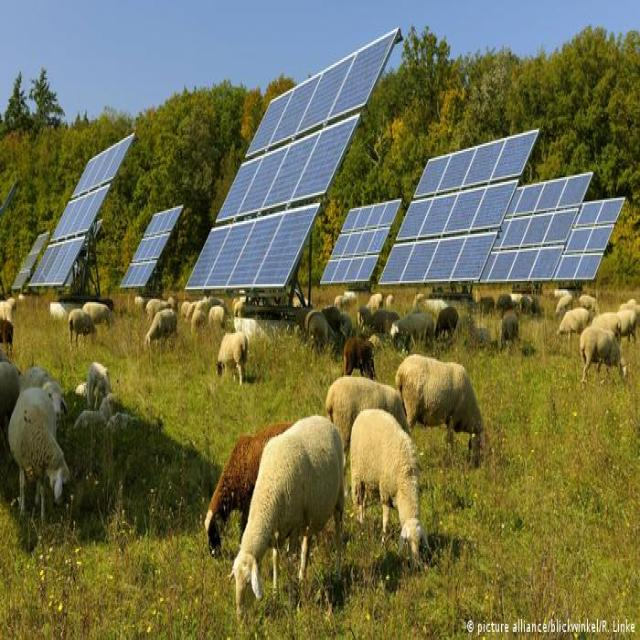clean-solar-panel: (186, 30, 401, 291), (381, 132, 539, 284), (482, 173, 624, 282), (322, 201, 401, 284)
